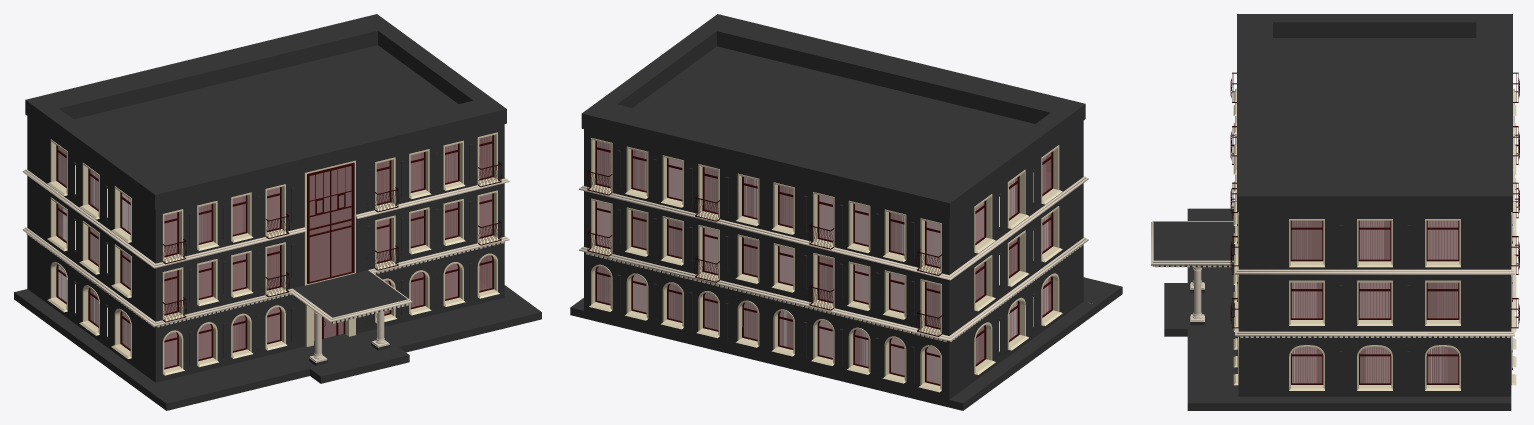
The model's file is the_facade_of_a_hotel_or_office.glb.
The picture shows the model from 3 angles, left to right: view 1: azimuth 30°, elevation 25°; view 2: azimuth 150°, elevation 25°; view 3: azimuth 270°, elevation 25°; orthographic projection. The views are drawn at different scales.
Visible parts, largest first — view 1: object 1, object 88, object 93, object 91, object 92, object 95, object 96, Line003, Box250, Box251, Line326_Material #38_0, Box249 (+1 smaller); view 2: object 1, object 93, object 88, object 92, object 95, Line326_Material #38_0, Line003, Box250, Box249, Box251, object 91, Box231_Material #38_0; view 3: object 1, object 88, object 91, object 93, object 96, object 92, Line003, Line326_Material #38_0, object 95, Box249, Box251, Box250 (+8 smaller).
Boxes of the visible parts, <box> form: object 1: <box>14,14,517,392</box>; object 88: <box>58,135,492,367</box>; object 93: <box>47,132,499,375</box>; object 91: <box>142,294,541,410</box>; object 92: <box>56,135,493,369</box>; object 95: <box>73,144,472,366</box>; object 96: <box>293,270,407,323</box>; Line003: <box>22,227,509,326</box>; Box250: <box>59,203,456,313</box>; Box251: <box>62,146,489,240</box>; Line326_Material #38_0: <box>22,169,509,268</box>; Box249: <box>90,272,487,348</box>; object 1: <box>570,14,1097,410</box>; object 93: <box>589,138,1062,392</box>; object 88: <box>597,141,1051,383</box>; object 92: <box>595,140,1053,385</box>; object 95: <box>617,150,1035,382</box>; Line326_Material #38_0: <box>579,176,1088,280</box>; Line003: <box>579,237,1088,341</box>; Box250: <box>634,212,1050,326</box>; Box249: <box>600,284,1050,363</box>; Box251: <box>598,152,1050,251</box>; object 91: <box>1083,277,1122,312</box>; Box231_Material #38_0: <box>715,284,946,341</box>; object 1: <box>1237,14,1512,410</box>; object 88: <box>1291,220,1458,383</box>; object 91: <box>1164,208,1238,410</box>; object 93: <box>1233,91,1516,390</box>; object 96: <box>1153,221,1234,266</box>; object 92: <box>1290,220,1459,384</box>; Line003: <box>1151,174,1514,336</box>; Line326_Material #38_0: <box>1235,88,1514,274</box>; object 95: <box>1237,212,1512,387</box>; Box249: <box>1317,347,1457,382</box>; Box251: <box>1296,221,1389,258</box>; Box250: <box>1317,283,1456,317</box>.
Size of the model in its own units: 1.35 by 0.6757 by 1.08.
